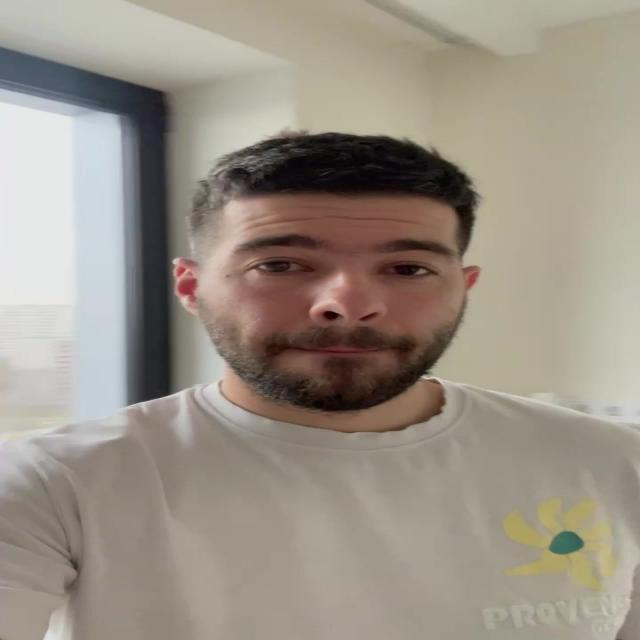earlobe: (172, 258, 202, 318), (459, 264, 481, 298)
